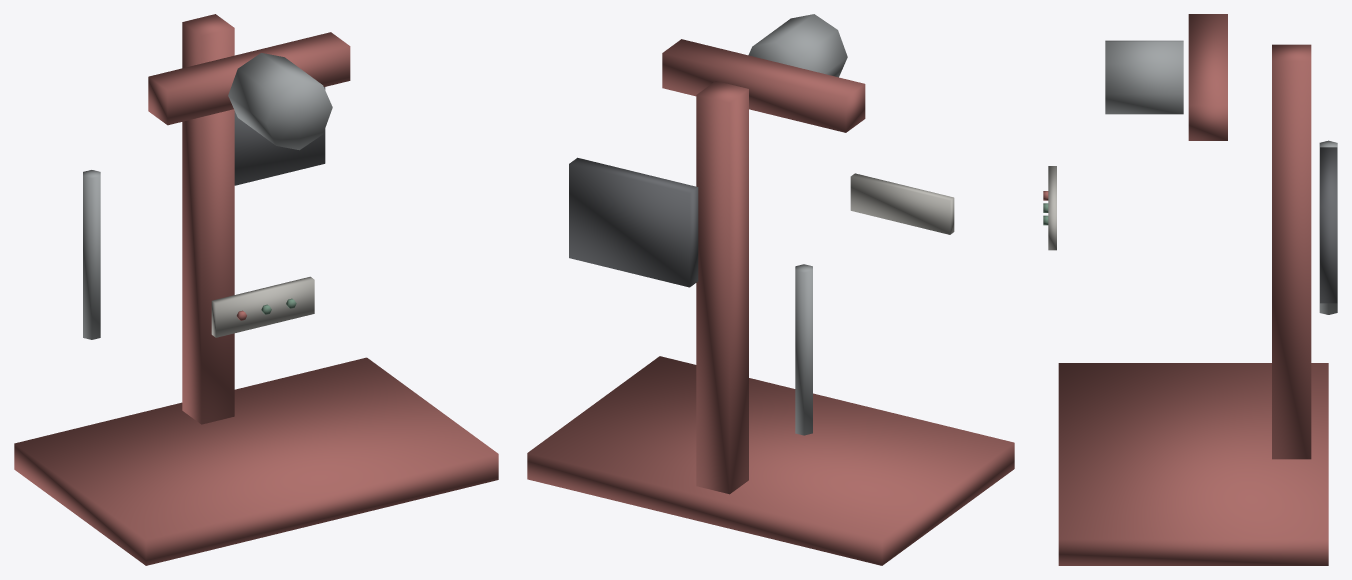
File: engine_stand__service.glb
3 renders of one model, left to right at view 1: azimuth 30°, elevation 25°; view 2: azimuth 150°, elevation 25°; view 3: azimuth 270°, elevation 25°, orthographic. The views are drawn at different scales.
Parts seen in each view (by area): view 1: world; view 2: world; view 3: world.
Part boxes in pixels (bbox=[...]): world: bbox=[14, 14, 498, 565]; world: bbox=[527, 14, 1014, 565]; world: bbox=[1043, 14, 1337, 565].
Bounding box in the file's own units: 0.85 × 0.98 × 0.5994.
